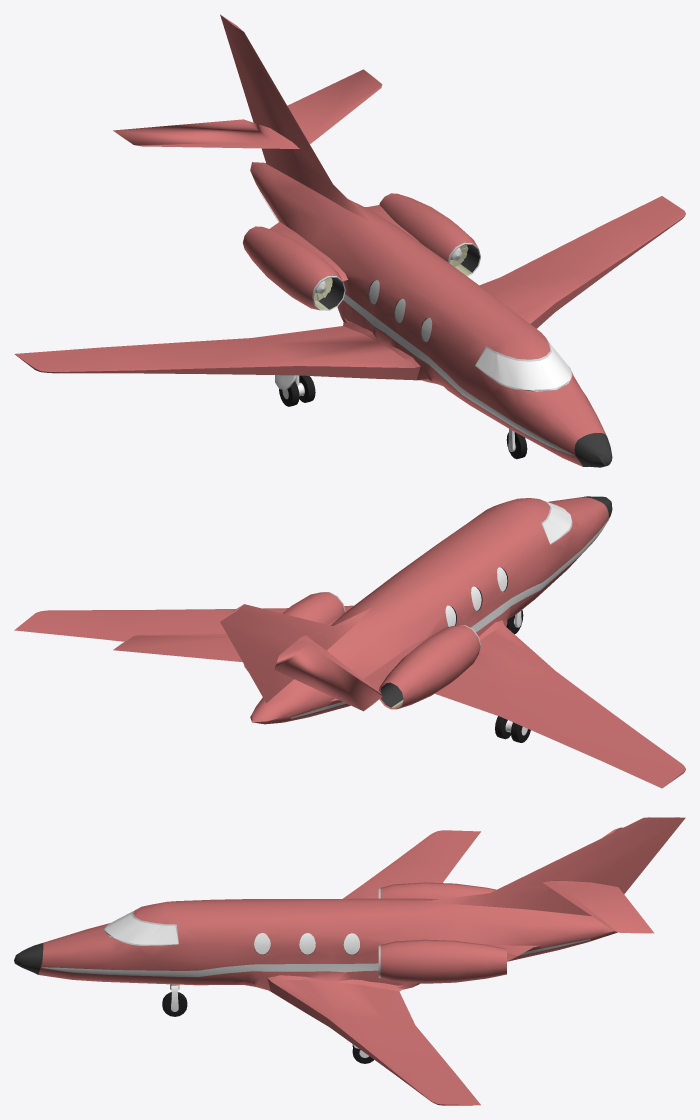
The model's file is exterior.glb.
3 renders of one model, top to bottom at view 1: azimuth 30°, elevation 25°; view 2: azimuth 150°, elevation 25°; view 3: azimuth 270°, elevation 25°, orthographic. The views are drawn at different scales.
Visible parts, largest first — view 1: Body_Fuselage, Wing_Right, Body_TailSection, Wing_Left, Engine_Outer_R, Engine_Outer_L, Glass_All, Stripe_Whole, Body_Nose, Body_Weelback; view 2: Body_Fuselage, Wing_Right, Body_TailSection, Engine_Outer_R, Wing_Left, Glass_All, Engine_Outer_L, Stripe_Whole, Body_Weelback; view 3: Body_Fuselage, Body_TailSection, Wing_Left, Engine_Outer_L, Wing_Right, Glass_All, Stripe_Whole, Engine_Outer_R, Body_Nose, Body_Weelfront.
Part boxes in pixels (bbox=[...]): Body_Fuselage: bbox=[115, 132, 606, 466]; Wing_Right: bbox=[14, 326, 416, 380]; Body_TailSection: bbox=[113, 14, 382, 221]; Wing_Left: bbox=[479, 196, 685, 328]; Engine_Outer_R: bbox=[243, 222, 347, 310]; Engine_Outer_L: bbox=[365, 193, 480, 276]; Glass_All: bbox=[369, 280, 572, 391]; Stripe_Whole: bbox=[259, 191, 573, 455]; Body_Nose: bbox=[574, 433, 612, 467]; Body_Weelback: bbox=[275, 375, 315, 406]; Body_Fuselage: bbox=[250, 497, 608, 724]; Wing_Right: bbox=[435, 625, 685, 788]; Body_TailSection: bbox=[113, 604, 382, 711]; Engine_Outer_R: bbox=[337, 625, 480, 709]; Wing_Left: bbox=[14, 605, 353, 641]; Glass_All: bbox=[445, 499, 572, 626]; Engine_Outer_L: bbox=[244, 592, 345, 670]; Stripe_Whole: bbox=[290, 518, 609, 718]; Body_Weelback: bbox=[495, 716, 530, 742]; Body_Fuselage: bbox=[38, 898, 617, 991]; Body_TailSection: bbox=[424, 817, 685, 933]; Wing_Left: bbox=[271, 980, 480, 1105]; Engine_Outer_L: bbox=[378, 939, 532, 983]; Wing_Right: bbox=[343, 830, 480, 898]; Glass_All: bbox=[103, 910, 359, 954]; Stripe_Whole: bbox=[42, 939, 590, 976]; Engine_Outer_R: bbox=[378, 882, 496, 899]; Body_Nose: bbox=[14, 943, 43, 974]; Body_Weelfront: bbox=[162, 984, 187, 1016].
Size of the model in its own units: 13.18 by 4.43 by 13.65.
